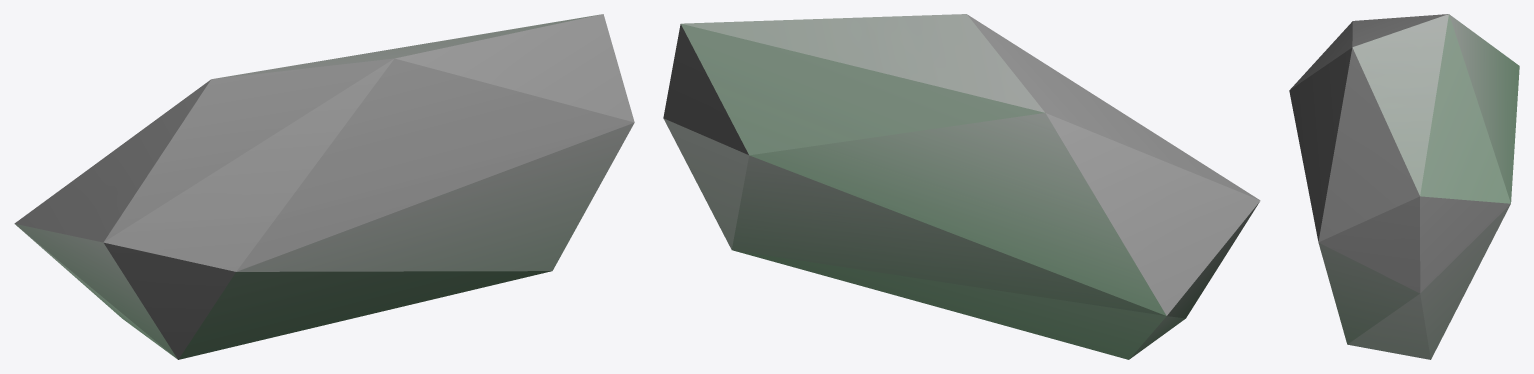
Rendered from rock_small_long_mossy.fbx.
3 views of the same model, side by side, from view 1: azimuth 30°, elevation 25°; view 2: azimuth 150°, elevation 25°; view 3: azimuth 270°, elevation 25° (orthographic). The views are drawn at different scales.
Visible parts, largest first — view 1: rock_small_long_mossy; view 2: rock_small_long_mossy; view 3: rock_small_long_mossy.
Boxes of the visible parts, x1,y1,x2,y2 form: rock_small_long_mossy: (14,14,634,359); rock_small_long_mossy: (663,14,1260,359); rock_small_long_mossy: (1289,14,1519,359).
Size of the model in its own units: 0.7 by 0.3 by 0.275.
Materials: 1 (1 with a texture image).
